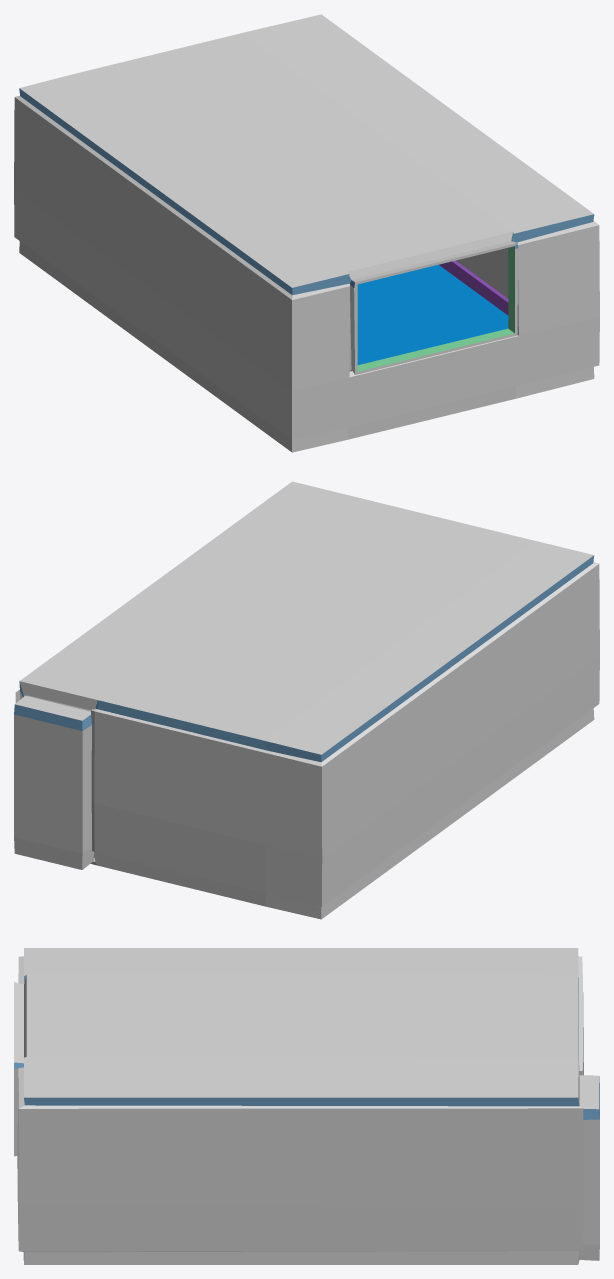
The picture shows the model from 3 angles, top to bottom: view 1: azimuth 30°, elevation 25°; view 2: azimuth 150°, elevation 25°; view 3: azimuth 270°, elevation 25°; orthographic projection.
Parts seen in each view (by area): view 1: Cube; view 2: Cube; view 3: Cube.
Boxes of the visible parts, x1,y1,x2,y2 form: Cube: [14, 14, 599, 452]; Cube: [14, 481, 599, 919]; Cube: [14, 948, 599, 1264].
Bounding box in the file's own units: 1858 × 959 × 3015.
